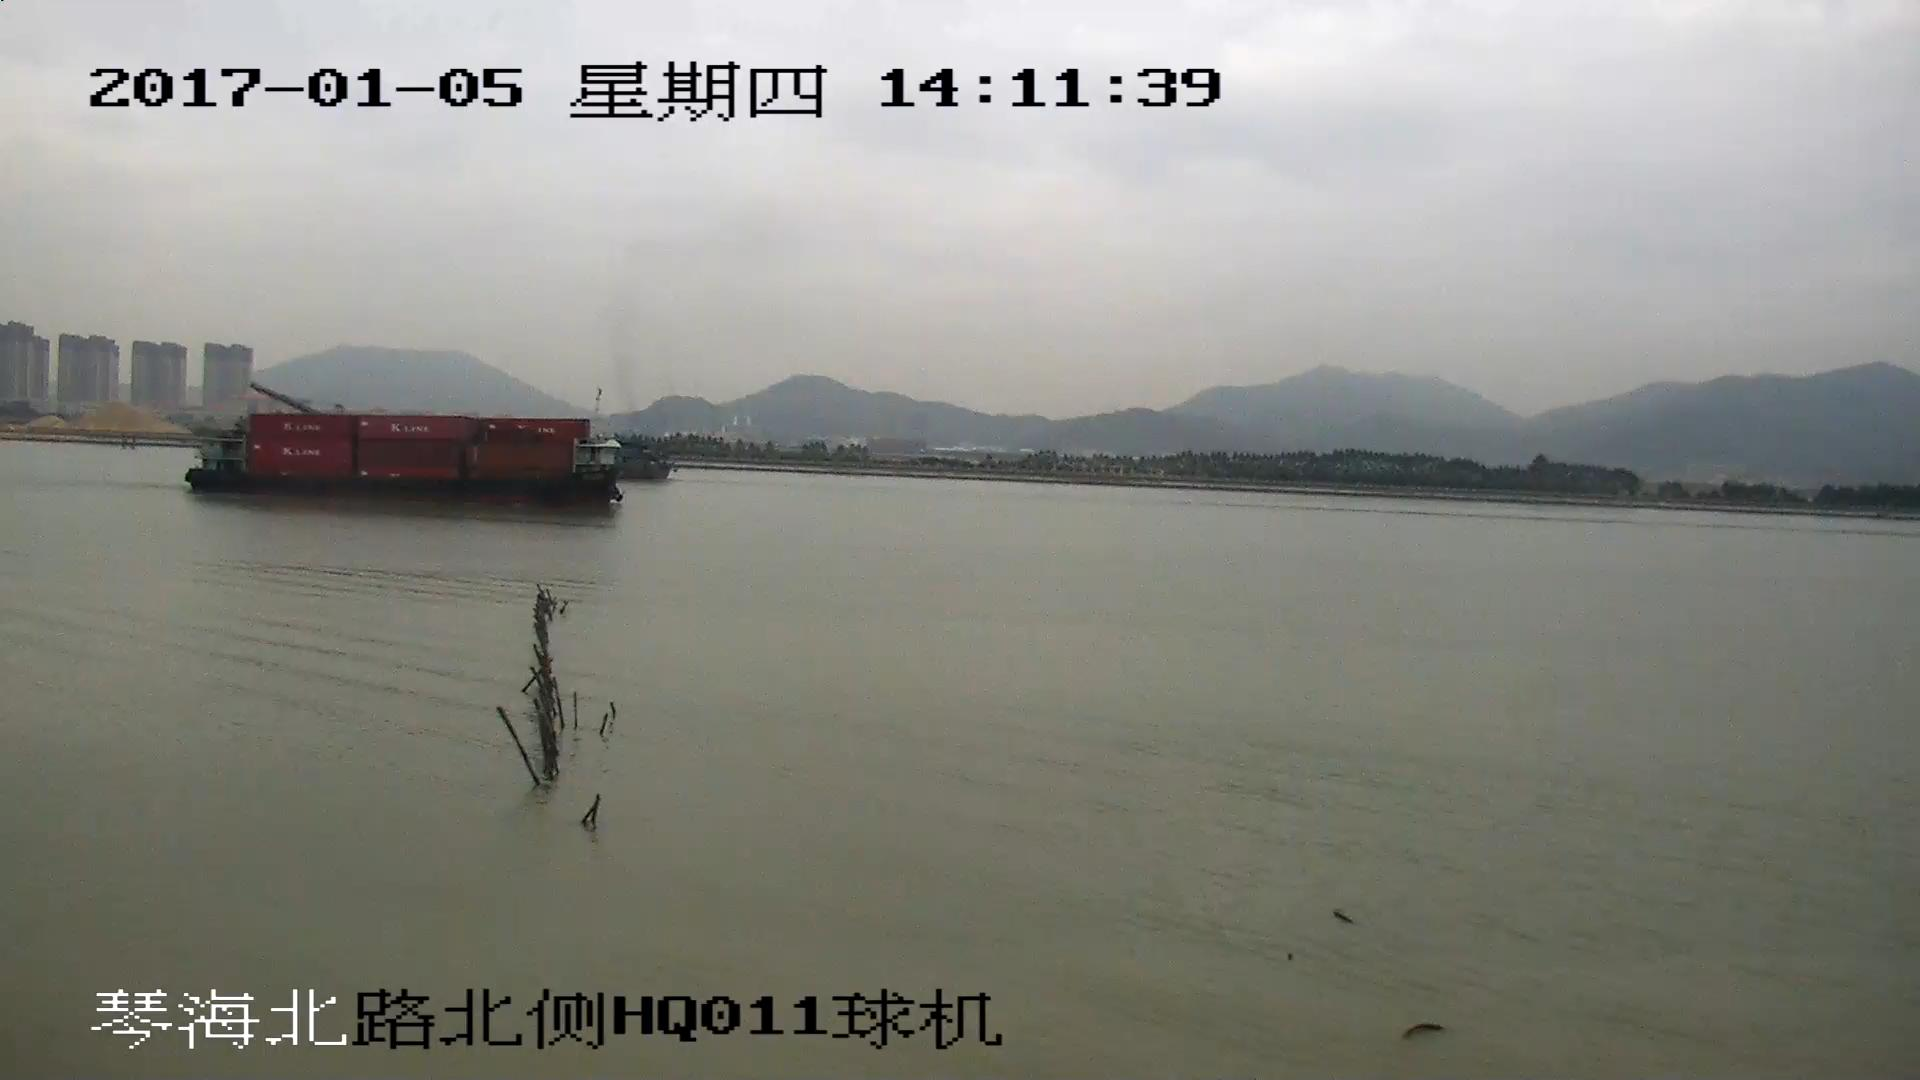container ship: (177, 405, 619, 508)
